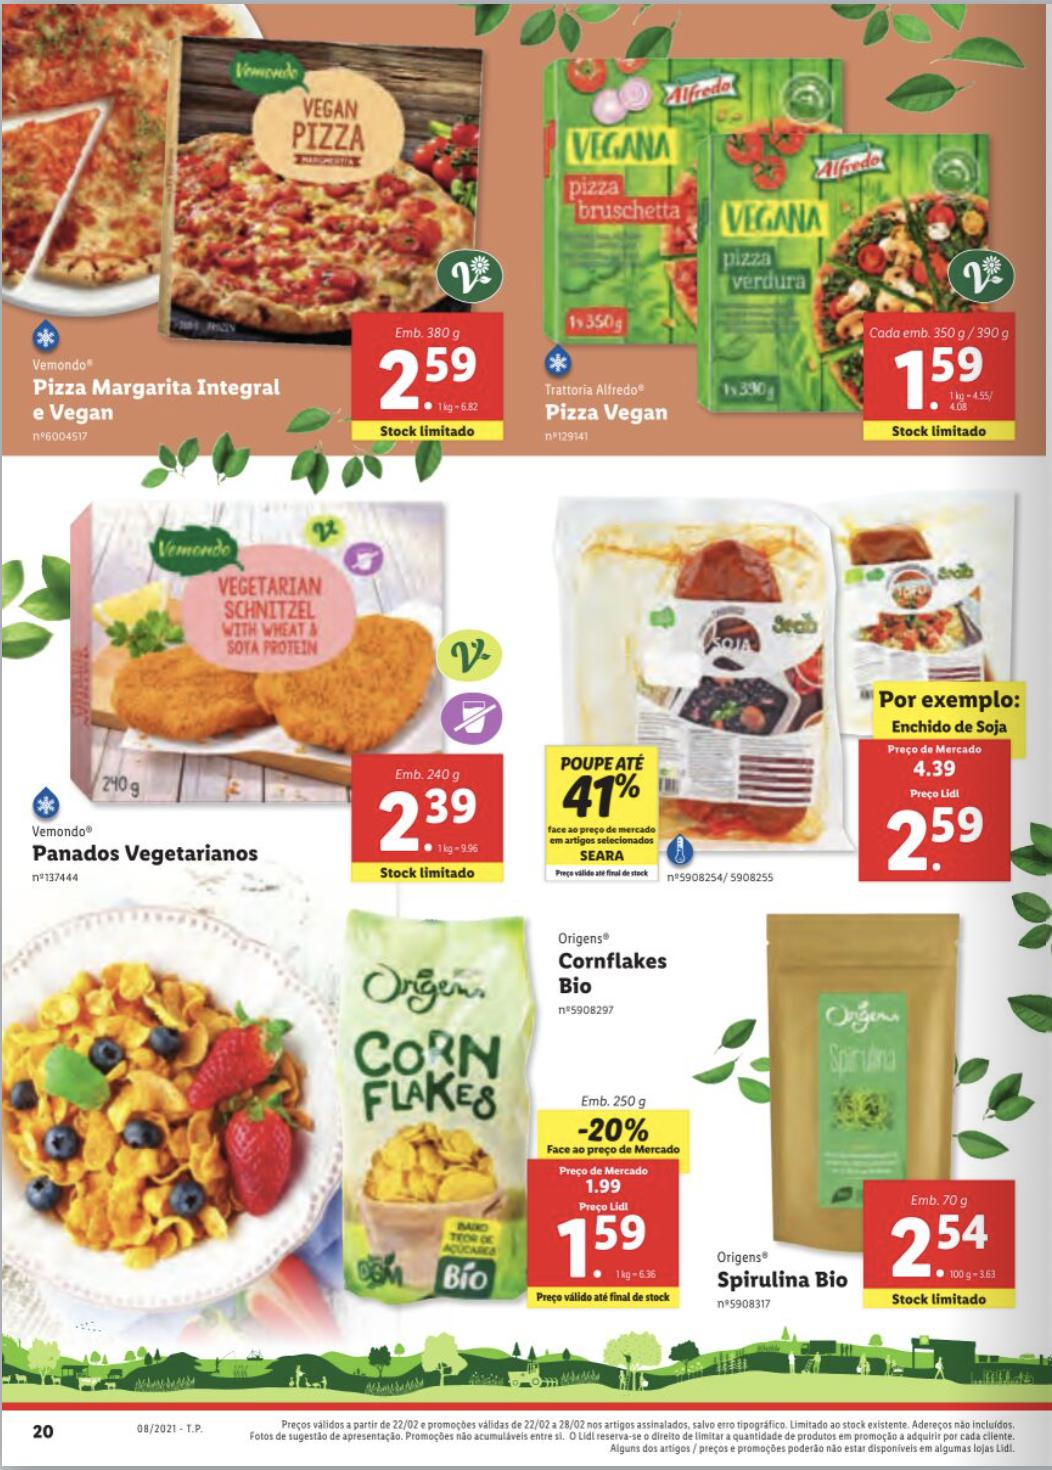name: (28, 373, 289, 425), (27, 843, 266, 870), (551, 948, 669, 997), (715, 1265, 856, 1298), (544, 399, 676, 430)
price: (876, 803, 993, 881), (887, 1207, 996, 1289), (887, 347, 1000, 422), (371, 785, 482, 856), (554, 1204, 651, 1283), (376, 350, 482, 412)
product: (9, 25, 520, 454), (13, 470, 524, 892), (536, 476, 1042, 892), (539, 49, 1033, 458), (317, 910, 715, 1319), (706, 892, 1042, 1319)
promotion: (560, 770, 646, 829), (573, 1116, 651, 1145)
